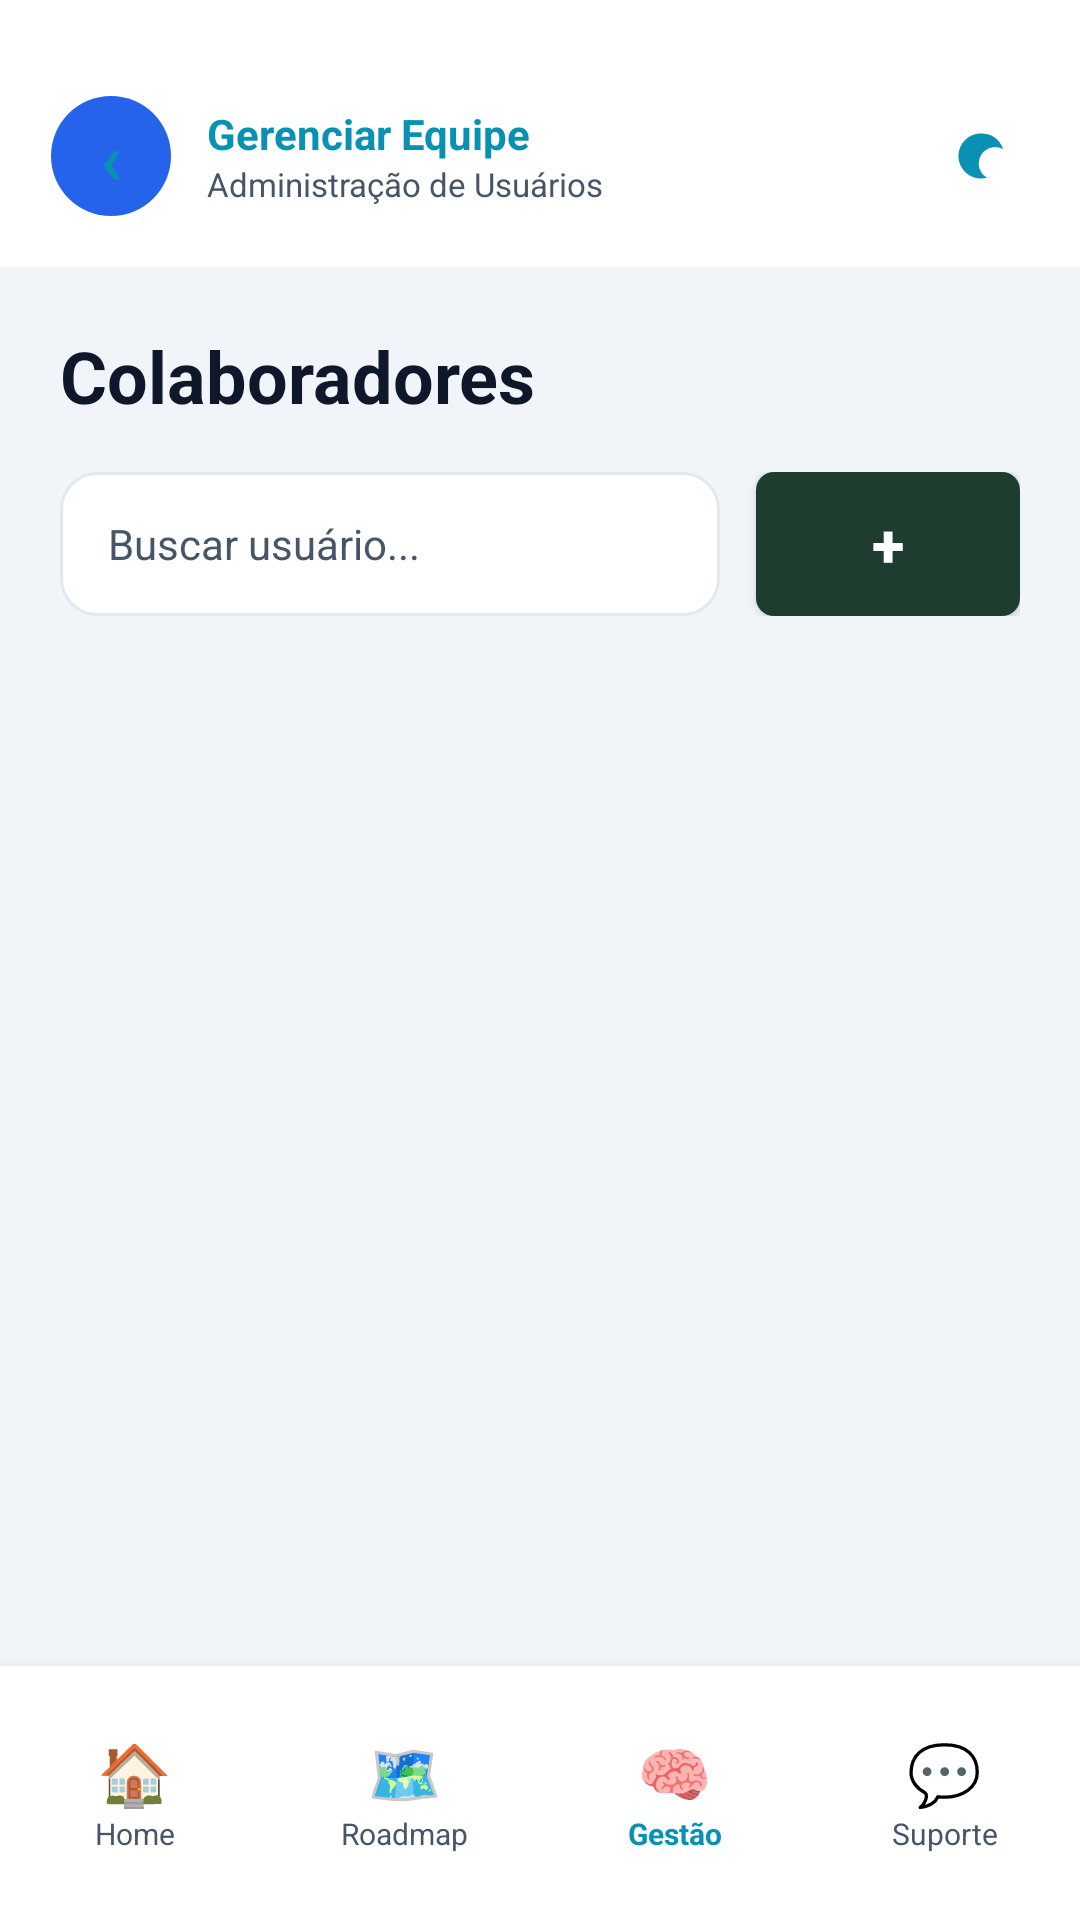

Locate icon controls on the screen. Image size 1080px x 1920px, boxes as box=[x1, y1, x2, y2].
Alternar Tema: box=[958, 133, 1003, 179]
